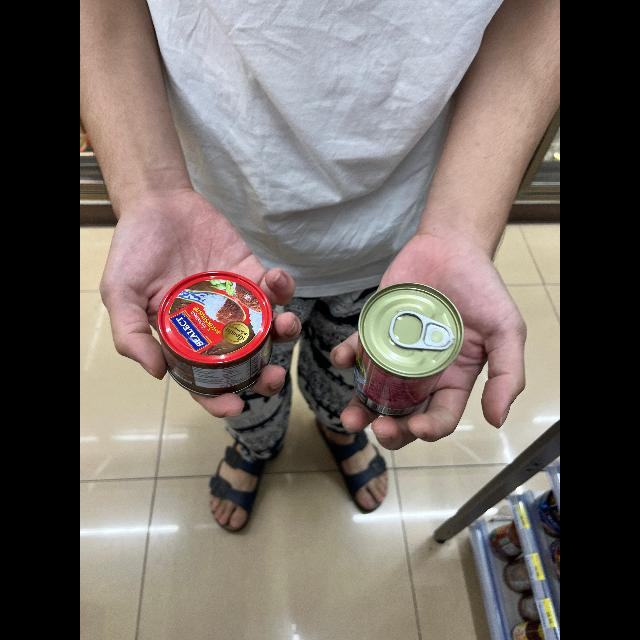can: (336, 265, 476, 431), (148, 264, 282, 396)
